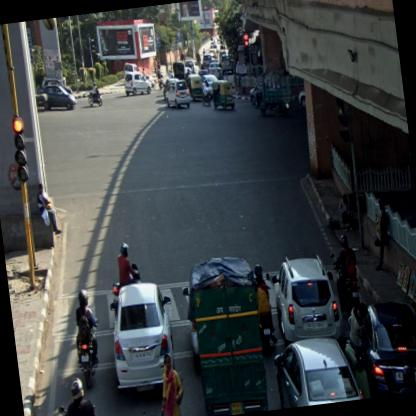car: (104, 278, 184, 408), (272, 331, 370, 408), (269, 250, 346, 348), (357, 296, 415, 398), (39, 82, 77, 114), (164, 78, 192, 112), (122, 68, 154, 97), (220, 51, 238, 75), (121, 60, 140, 80), (208, 60, 225, 81), (200, 72, 219, 90), (202, 51, 214, 69)
motorcycle: (69, 286, 106, 394), (102, 238, 149, 322), (328, 233, 364, 320), (250, 262, 280, 354), (54, 377, 101, 415), (86, 80, 102, 107), (156, 66, 167, 90), (202, 80, 212, 106)
truck: (185, 251, 271, 415), (252, 68, 296, 122)
